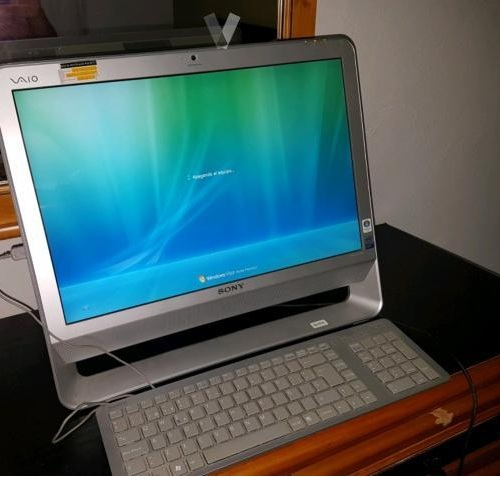Teclado: (92, 319, 453, 473)
